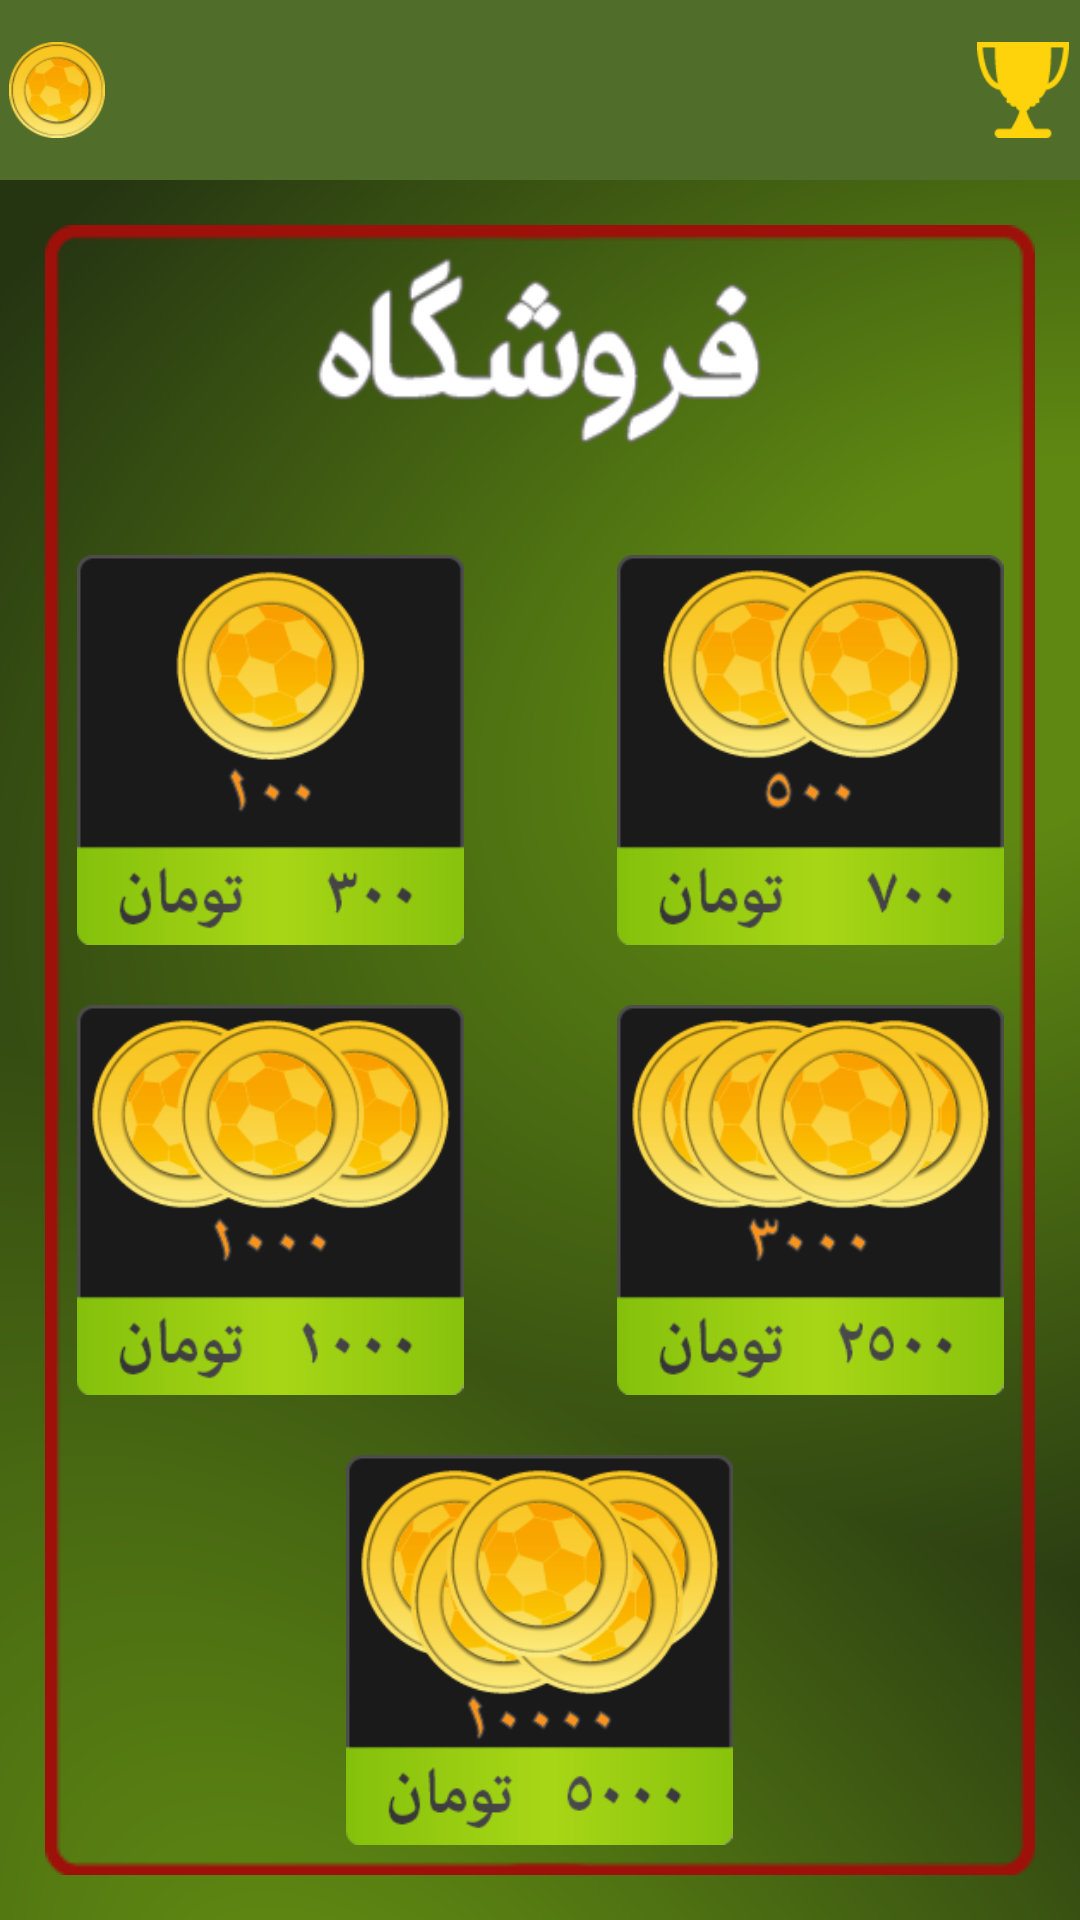

Point at icon controls on the screen. Image size 1080×1920, points as (x=x, y=y).
coin: (x=57, y=90)
points: (x=1023, y=90)
